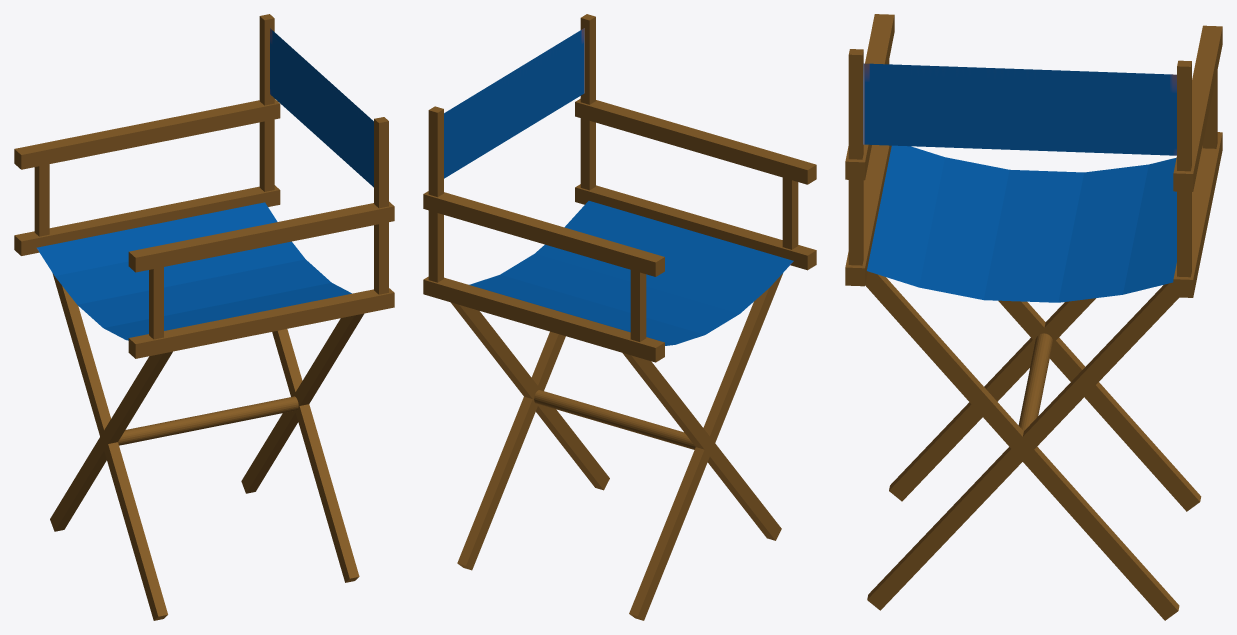
Rendered from xiaodengzi.fbx.
3 views of the same model, side by side, from view 1: azimuth 30°, elevation 25°; view 2: azimuth 150°, elevation 25°; view 3: azimuth 270°, elevation 25° (orthographic). The views are drawn at different scales.
Parts seen in each view (by area): view 1: chair2_chair.001_0; view 2: chair2_chair.001_0; view 3: chair2_chair.001_0.
Part boxes in pixels (left/top/right/bottom): chair2_chair.001_0: left=14, top=14, right=394, bottom=620; chair2_chair.001_0: left=423, top=14, right=816, bottom=620; chair2_chair.001_0: left=845, top=14, right=1222, bottom=620.
Size of the model in its own units: 82.34 by 136 by 82.02.
